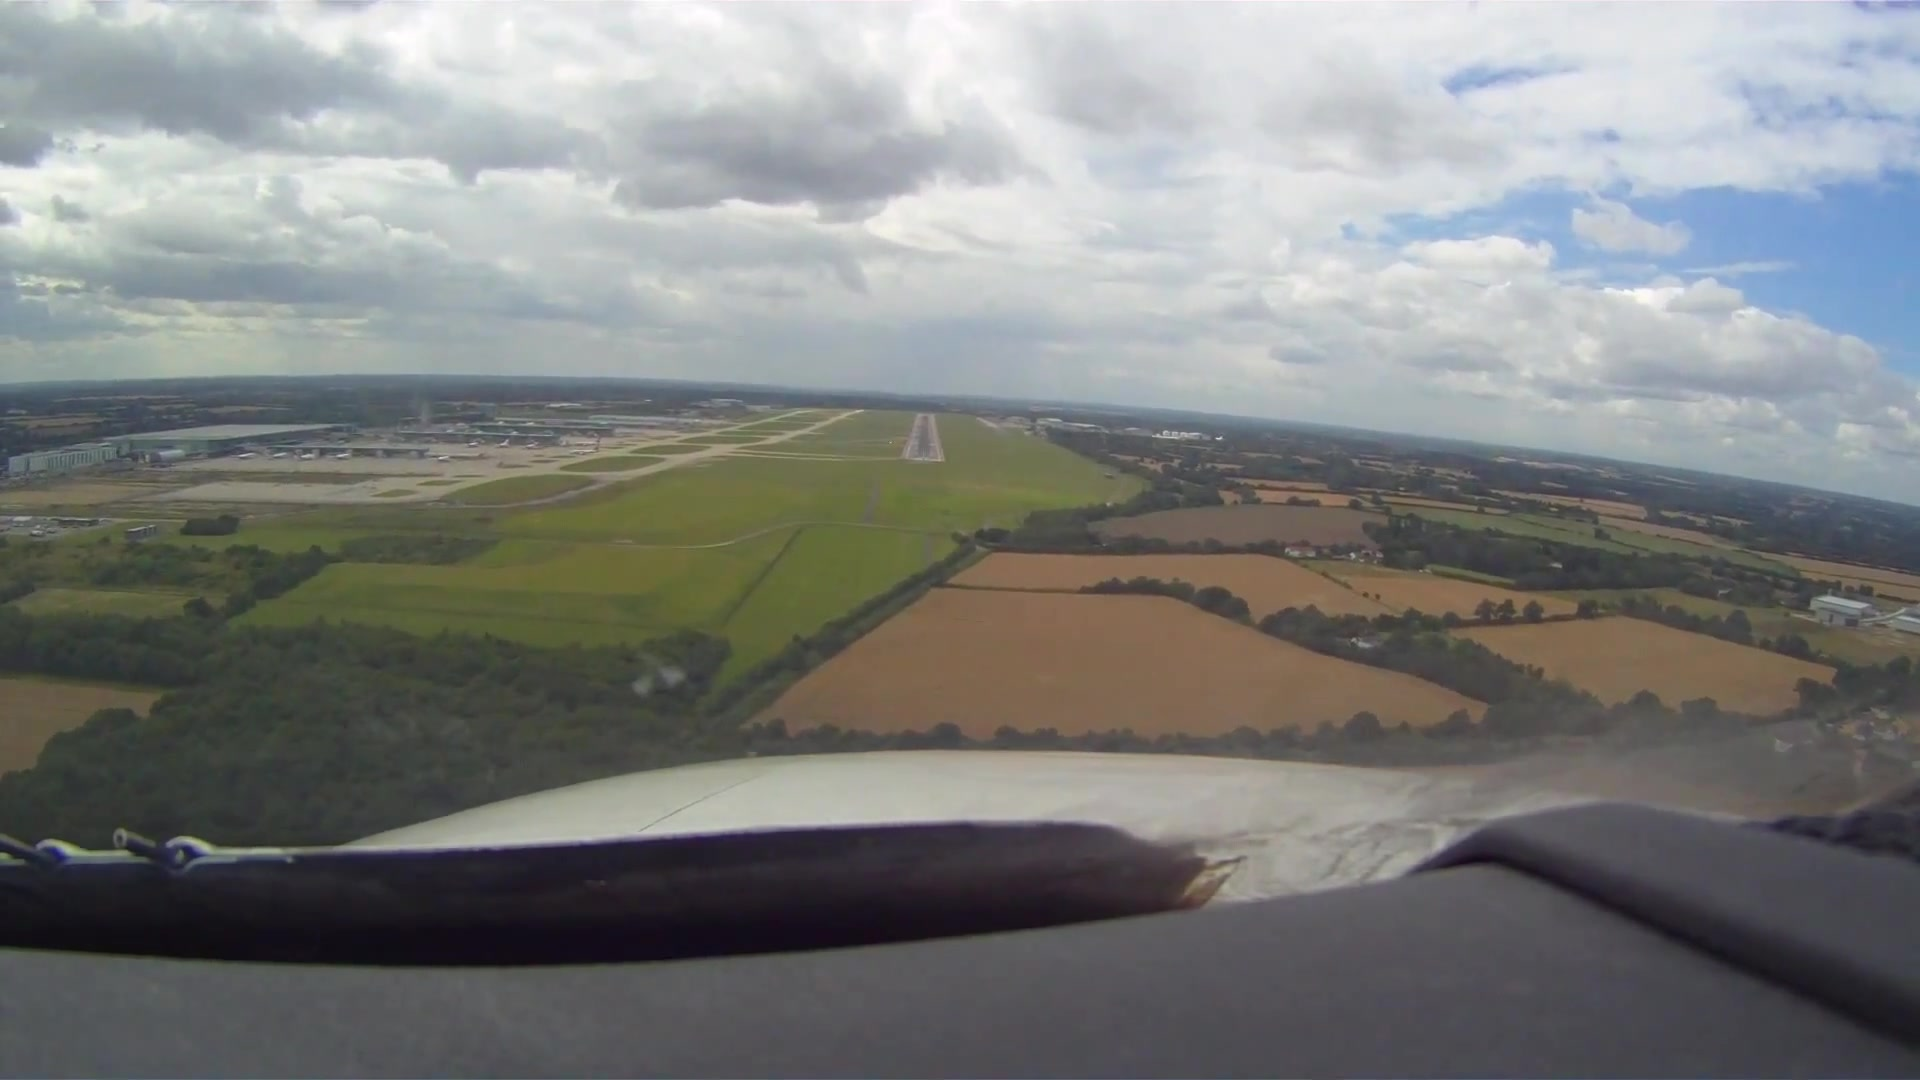runway: (897, 413, 944, 462)
